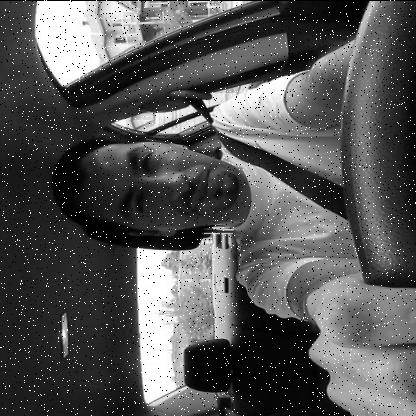seatbelt: (36, 117, 348, 268)
